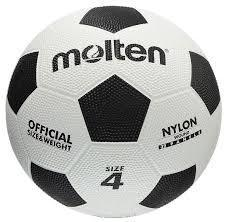Sports-Ball: (4, 2, 218, 218)
